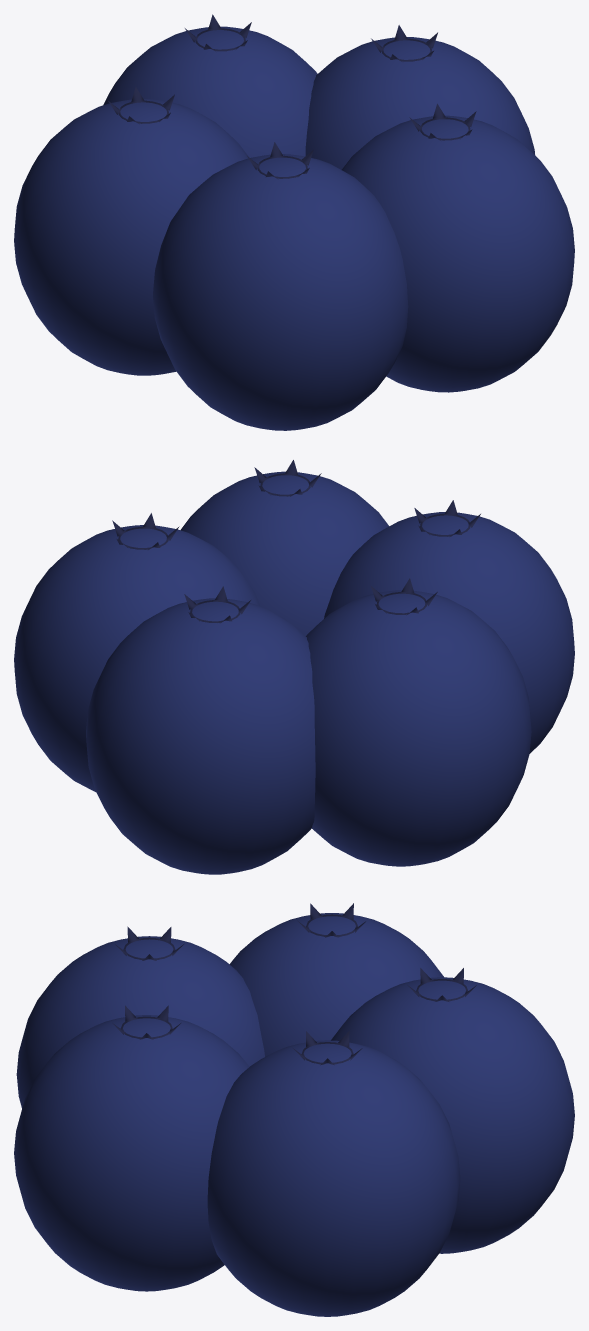
Rendered from blueberry.fbx.
3 views of the same model, one above another, from view 1: azimuth 30°, elevation 25°; view 2: azimuth 150°, elevation 25°; view 3: azimuth 270°, elevation 25° (orthographic).
Parts seen in each view (by area): view 1: blueberry; view 2: blueberry; view 3: blueberry.
Boxes of the visible parts, <box> form: blueberry: <box>14,14,574,430</box>; blueberry: <box>14,460,574,874</box>; blueberry: <box>14,903,574,1316</box>.
Bounding box in the file's own units: 58 × 30 × 58.
